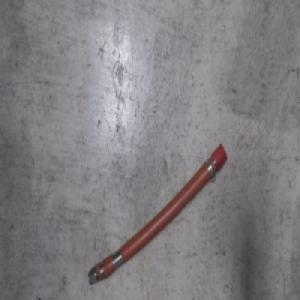Hose: (87, 139, 227, 287)
